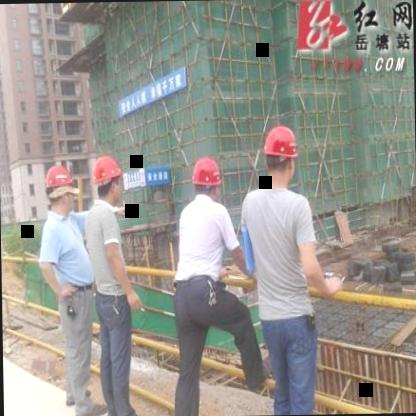helmet: (258, 119, 302, 190), (42, 162, 77, 216), (91, 152, 125, 202), (190, 153, 222, 203)
